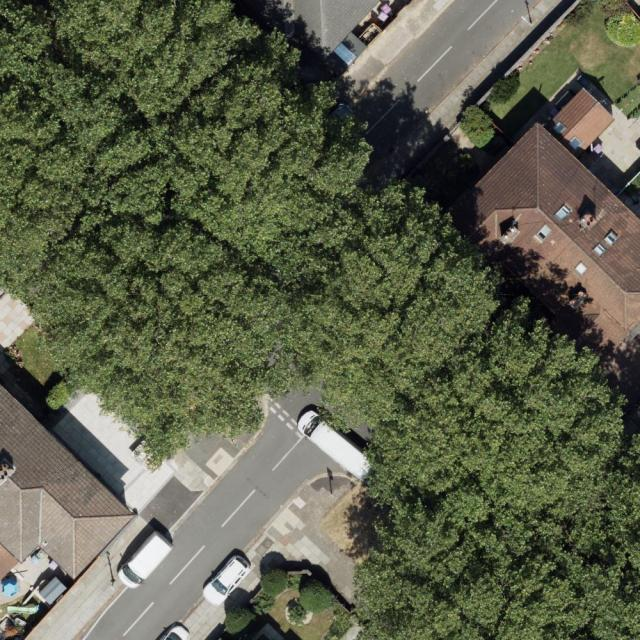roof: (443, 88, 640, 368), (0, 379, 141, 580), (248, 0, 382, 63)
skylight: (535, 224, 555, 243), (571, 260, 589, 278), (556, 204, 573, 222), (606, 229, 622, 247), (591, 242, 608, 258), (550, 121, 567, 136), (566, 137, 582, 152)
